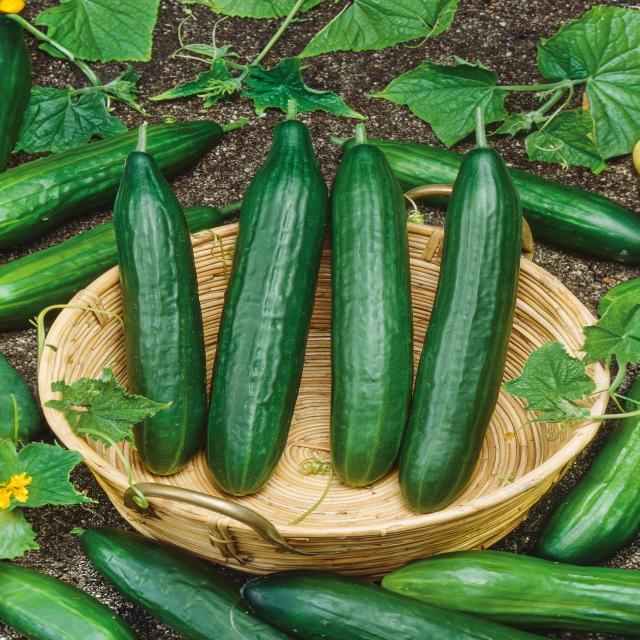Pickle: (399, 106, 522, 512), (206, 120, 328, 495), (115, 122, 206, 475), (331, 144, 413, 486), (80, 528, 297, 640), (382, 550, 640, 635), (241, 570, 550, 640), (0, 130, 137, 248), (538, 416, 640, 566), (0, 221, 118, 329), (508, 168, 640, 264), (0, 562, 139, 640), (370, 139, 463, 191), (147, 121, 224, 179), (182, 202, 241, 232)
